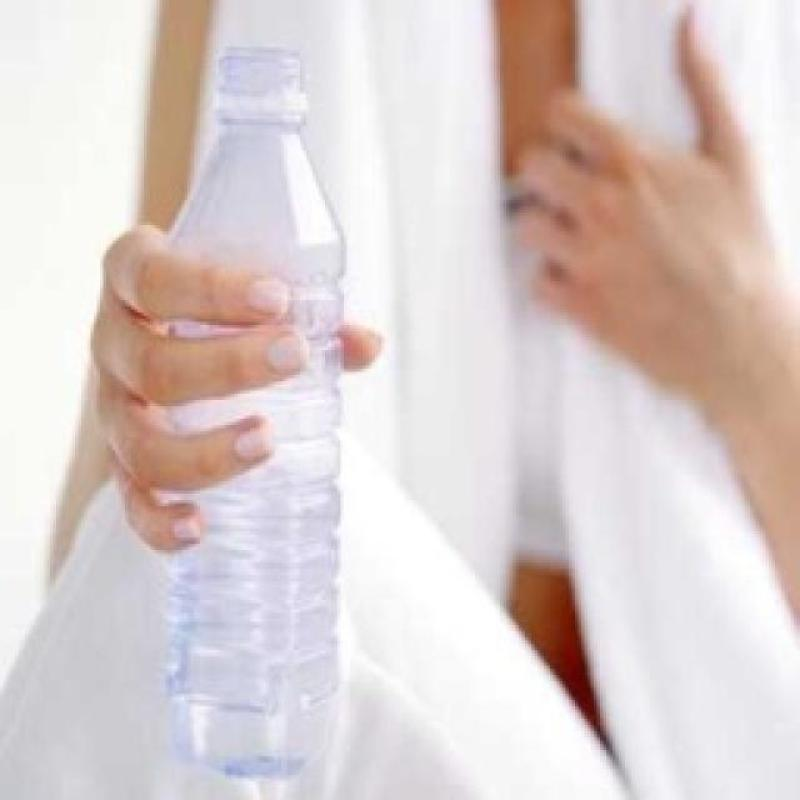botella: (160, 46, 346, 782)
